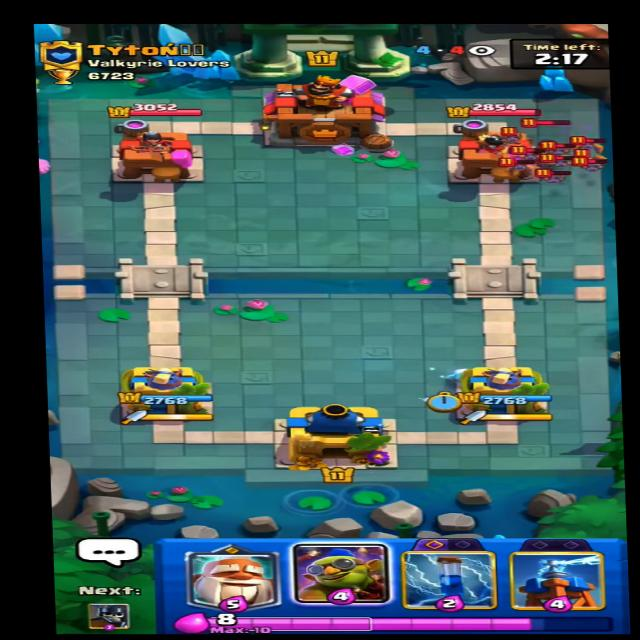Bat: (521, 165, 575, 187), (494, 127, 532, 145), (571, 138, 610, 153), (582, 161, 610, 177), (550, 146, 575, 156)
